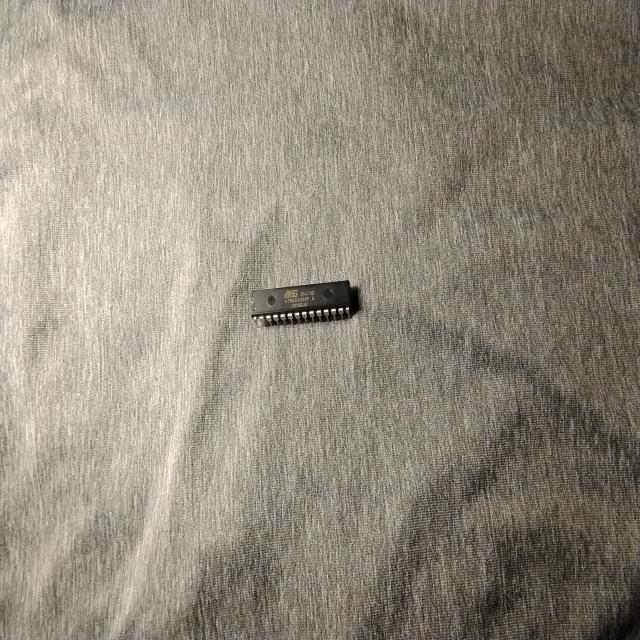atmega: (248, 278, 354, 330)
